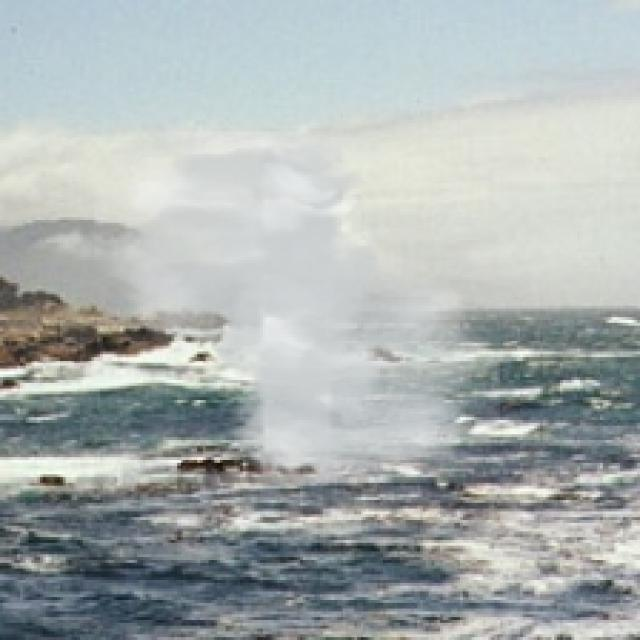smoke: (94, 131, 500, 483)
